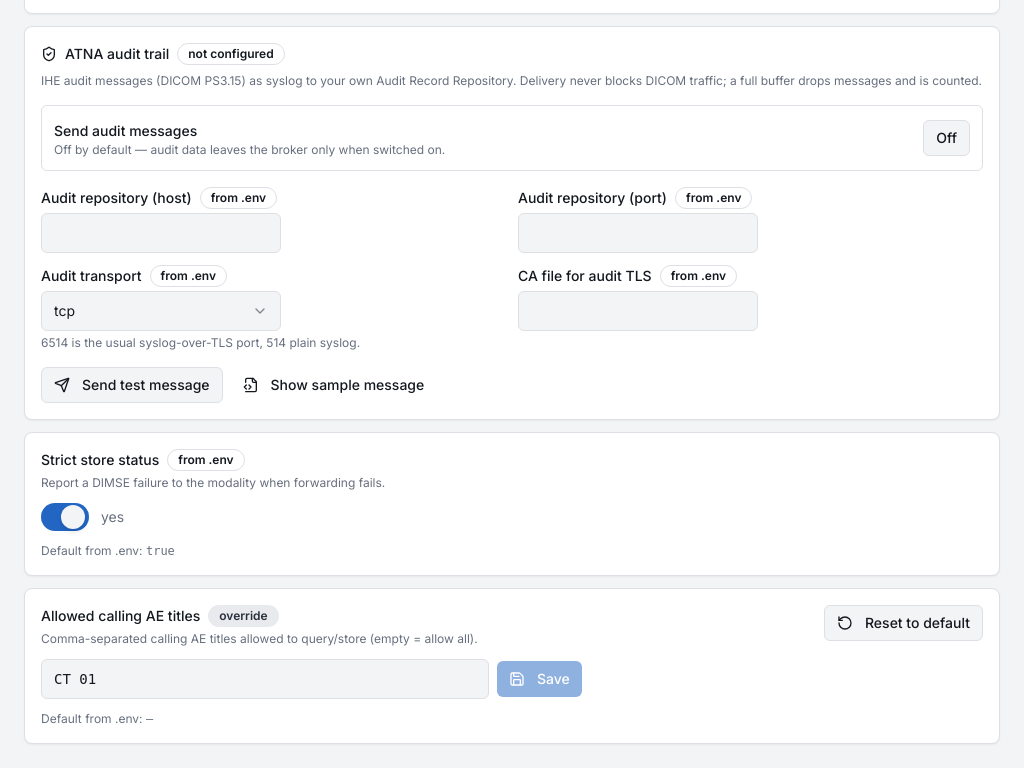
Test: BrokerSettingsPage › shows the server message when the server rejects a valid-looking value
(page scrolled)
Expected: the text "Allowed calling AE titles" is shown, [41,606,200,626]
Replace the text in the field labelled "Allowed calling AE titles" with "MR_01" at {"x": 265, "y": 679}, box [41,659,489,699]
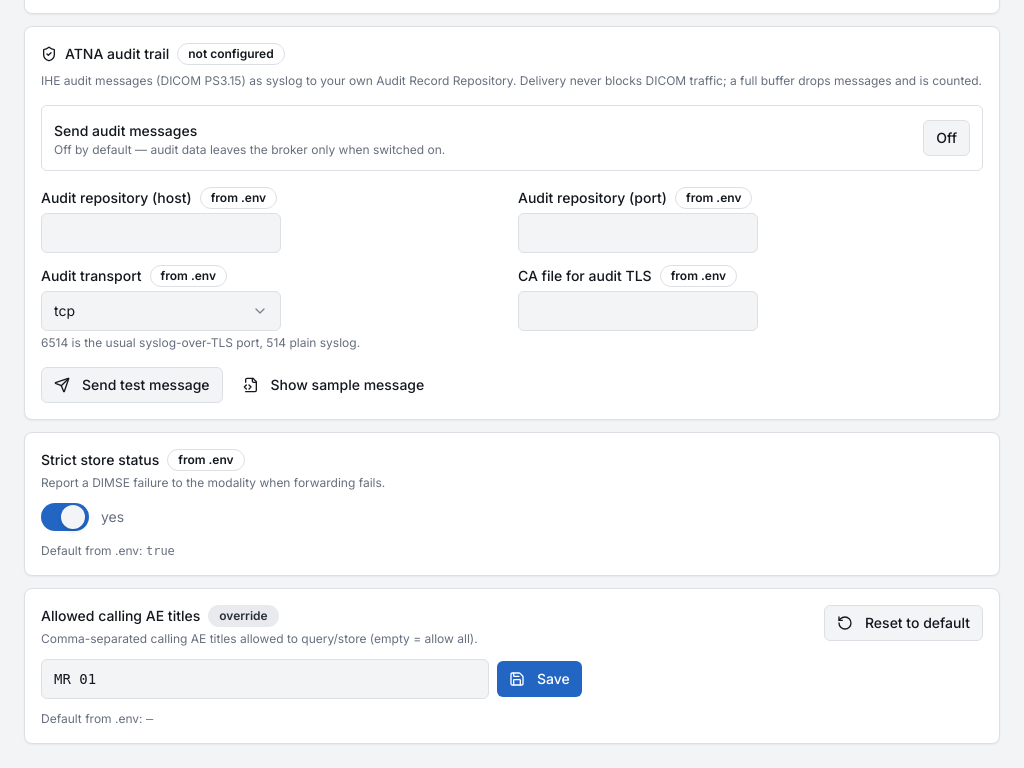
Click the button "Save" at {"x": 539, "y": 679}, box [497,661,582,697]
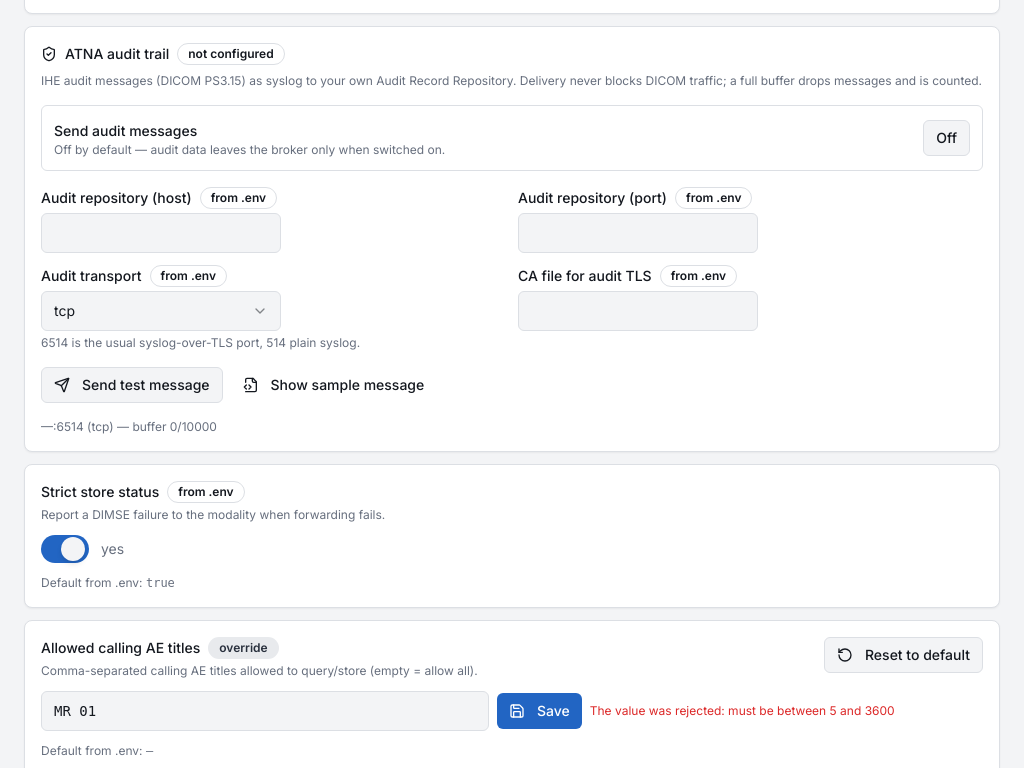
Expected: the message shows "rejected", [590,703,895,718]
Expected: the message shows "must be between 5 and 3600", [590,703,895,718]
